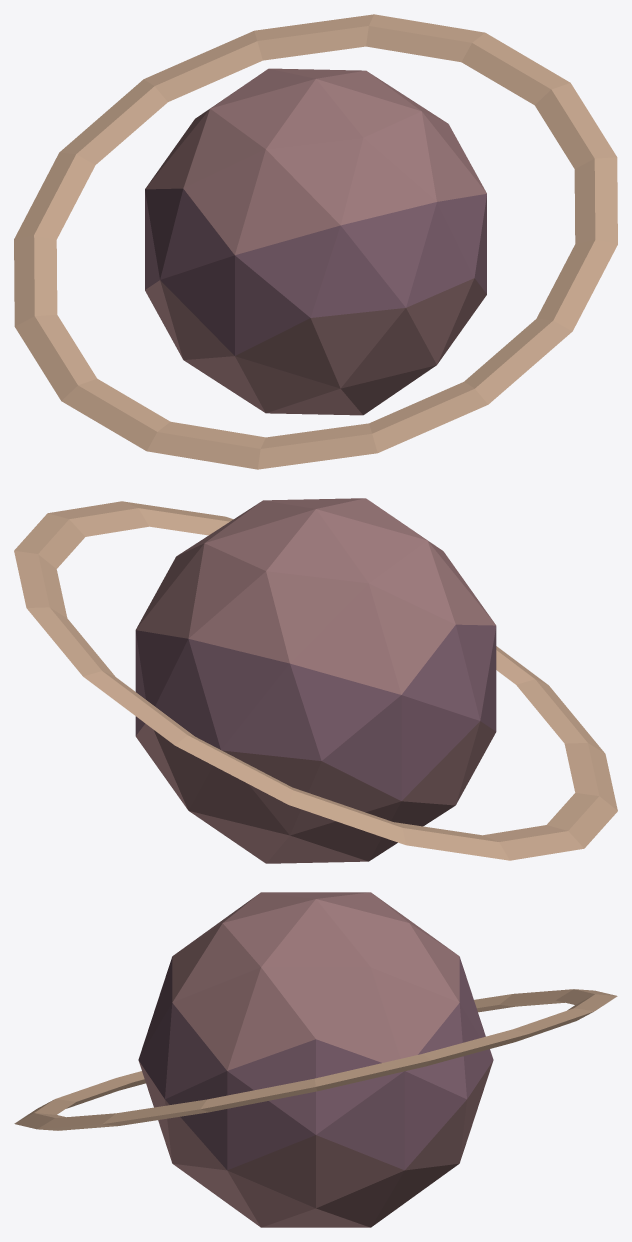
The model's file is planet.glb.
3 renders of one model, top to bottom at view 1: azimuth 30°, elevation 25°; view 2: azimuth 150°, elevation 25°; view 3: azimuth 270°, elevation 25°, orthographic. The views are drawn at different scales.
Visible parts, largest first — view 1: Planet, Ring; view 2: Planet, Ring; view 3: Planet, Ring.
Part boxes in pixels (x1,y1,x2,y2): Planet: [145, 68, 486, 415]; Ring: [14, 14, 617, 469]; Planet: [135, 498, 496, 863]; Ring: [14, 501, 617, 860]; Planet: [138, 892, 493, 1227]; Ring: [14, 989, 617, 1130].
Size of the model in its own units: 4.25 by 2.6 by 4.42.
